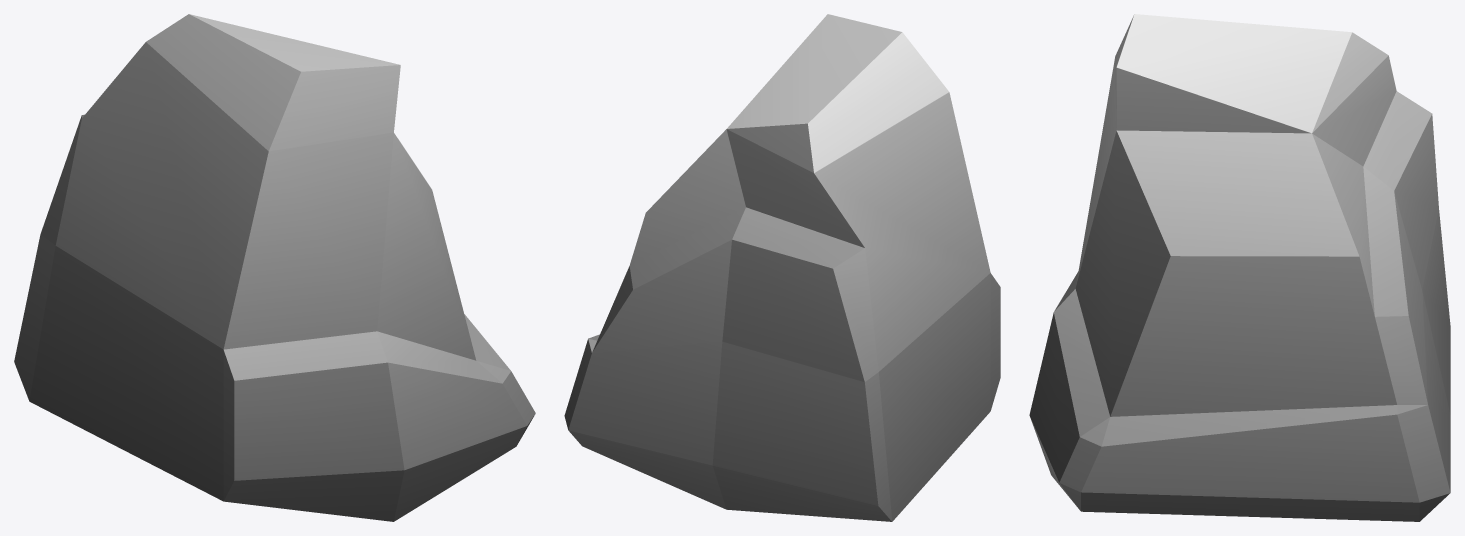
File: Rock_15.fbx
3 renders of one model, left to right at view 1: azimuth 30°, elevation 25°; view 2: azimuth 150°, elevation 25°; view 3: azimuth 270°, elevation 25°, orthographic. The views are drawn at different scales.
Visible parts, largest first — view 1: Rock_2; view 2: Rock_2; view 3: Rock_2.
Part boxes in pixels (x1,y1,x2,y2): Rock_2: (14,14,535,521); Rock_2: (564,14,1000,521); Rock_2: (1029,14,1450,521).
Bounding box in the file's own units: 56.14 × 64.56 × 56.5.
